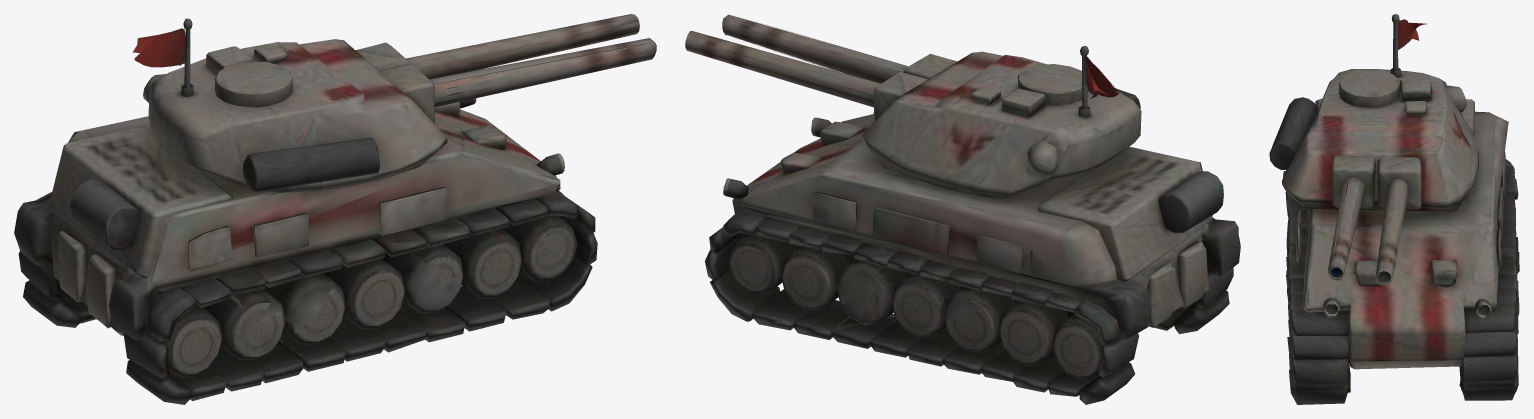
The model's file is leader_tank.glb.
The picture shows the model from 3 angles, left to right: view 1: azimuth 30°, elevation 25°; view 2: azimuth 150°, elevation 25°; view 3: azimuth 270°, elevation 25°; orthographic projection. The views are drawn at different scales.
Parts seen in each view (by area): view 1: hull, turret; view 2: hull, turret; view 3: hull, turret.
Boxes of the visible parts, x1,y1,x2,y2 form: hull: (14, 38, 656, 404); turret: (132, 14, 651, 191); hull: (704, 14, 1240, 404); turret: (685, 15, 1141, 189); hull: (1269, 98, 1519, 404); turret: (1270, 14, 1477, 285).
Bounding box in the file's own units: 1 × 0.5555 × 0.4743.
Materials: 1 (1 with a texture image).
